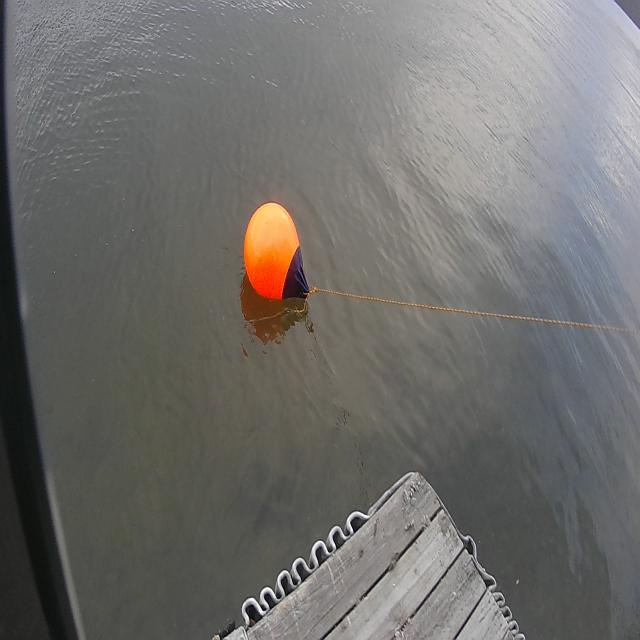Buoy: (238, 193, 312, 307)
